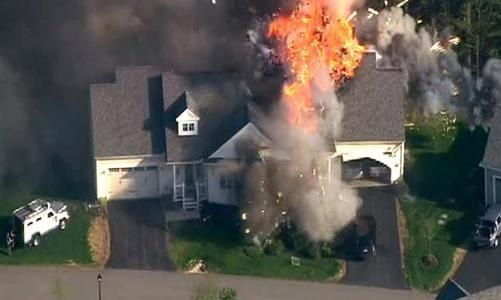fire: (266, 0, 370, 126)
